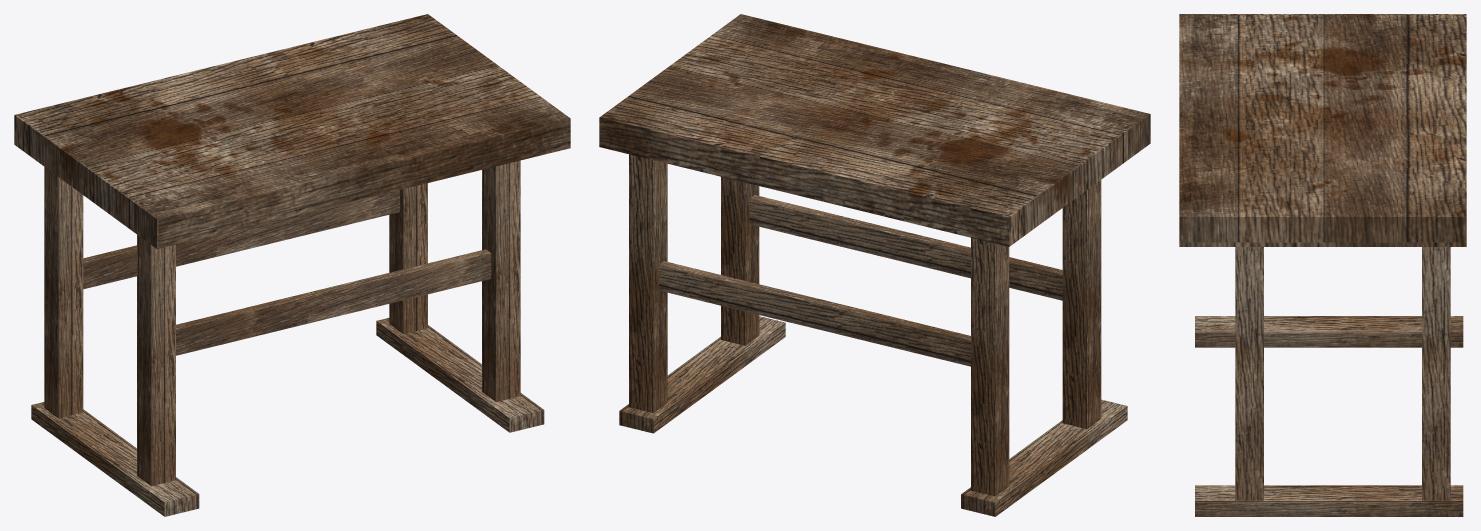
Rendered from Prop_Workbench2_model.fbx.
3 renders of one model, left to right at view 1: azimuth 30°, elevation 25°; view 2: azimuth 150°, elevation 25°; view 3: azimuth 270°, elevation 25°, orthographic.
Visible parts, largest first — view 1: Prop_Workbench2; view 2: Prop_Workbench2; view 3: Prop_Workbench2.
Part boxes in pixels (<box>): Prop_Workbench2: <box>14,14,570,516</box>; Prop_Workbench2: <box>599,14,1150,516</box>; Prop_Workbench2: <box>1179,14,1466,516</box>.
Size of the model in its own units: 126 by 89.37 by 75.26.
